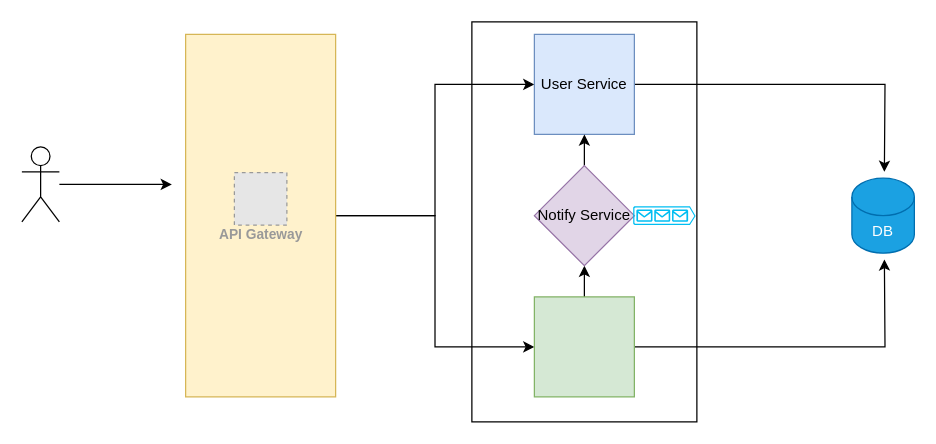
This 936x444 diagram has some shape labels left out. Grey dashed boxes stand in for pictures. Each missing label, with the centre of its shape:
"Leave Service" goes at [583,346].
"Users" goes at [40,184].
